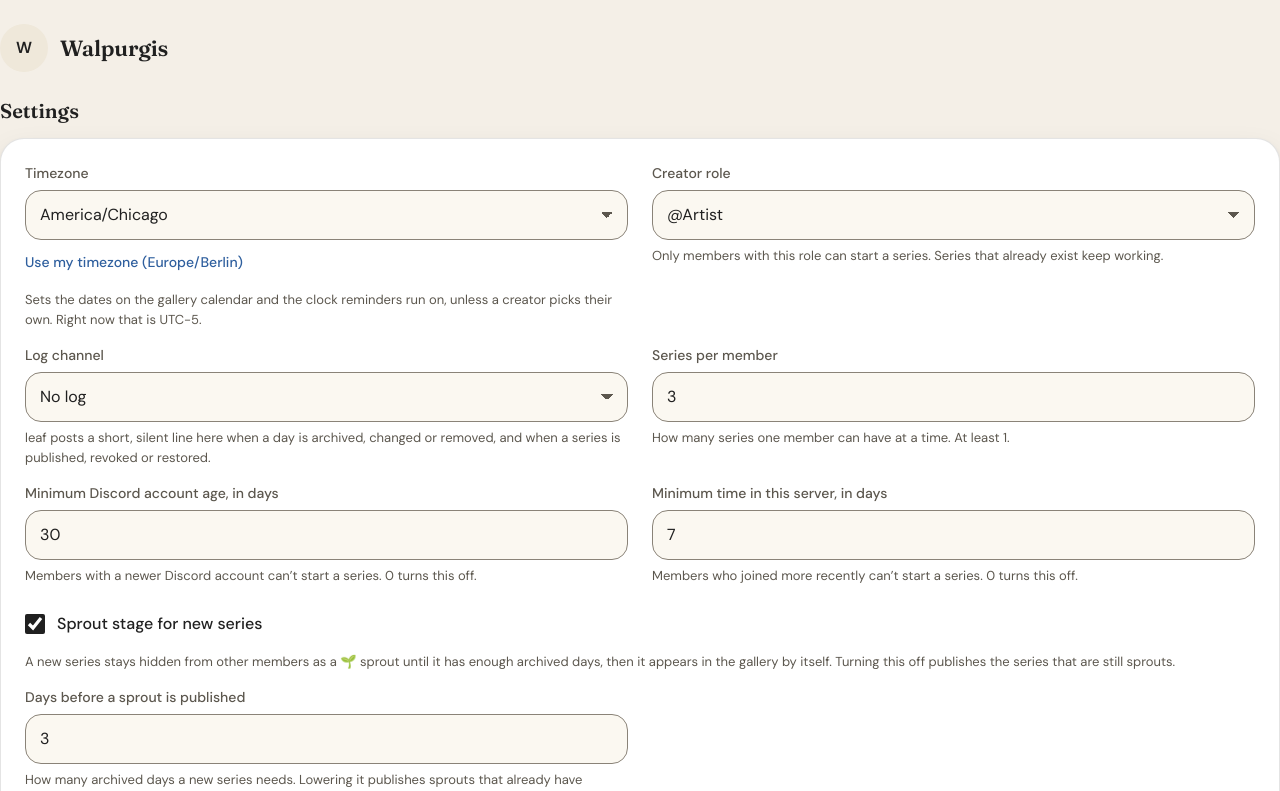
Test case: GuildPanel settings › drops "Saved" as soon as the form is edited again
Expected: the heading "Settings" is shown, x1=0 y1=98 x2=79 y2=123
Replace the text in the field labelled "Series per member" with "5" at (954, 397), box x1=652 y1=372 x2=1255 y2=422
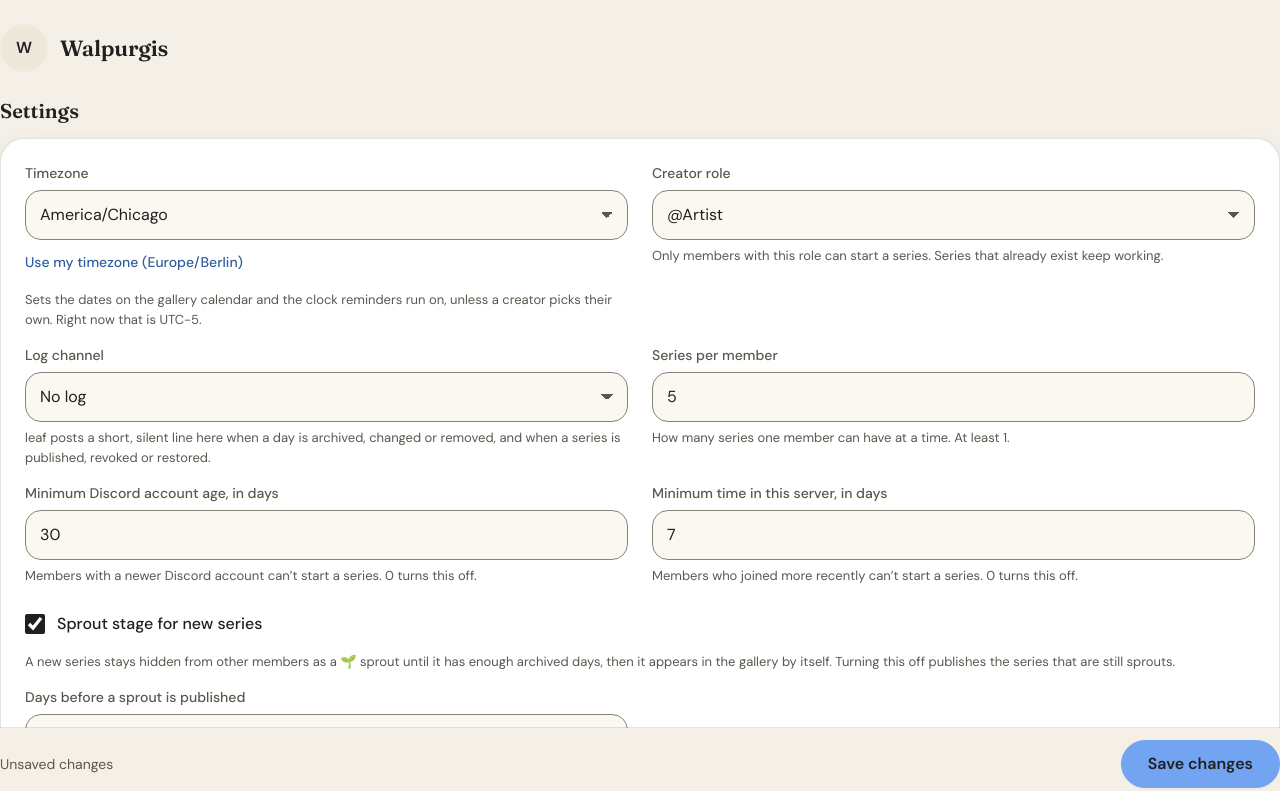
Click the button "Save changes" at (1200, 764), box x1=1121 y1=740 x2=1279 y2=788
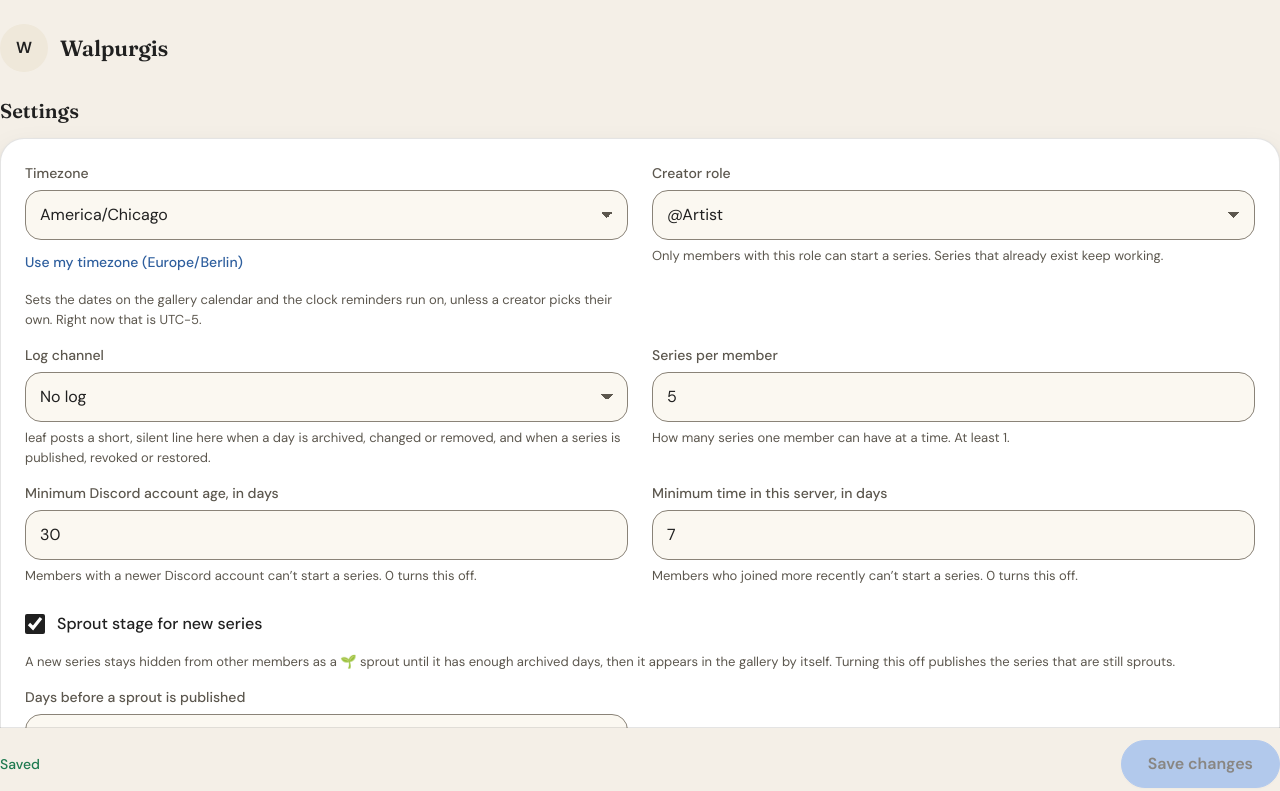
Now the text "Saved" is shown, box x1=0 y1=754 x2=40 y2=774
Replace the text in the field labelled "Series per member" with "6" at (954, 397), box x1=652 y1=372 x2=1255 y2=422
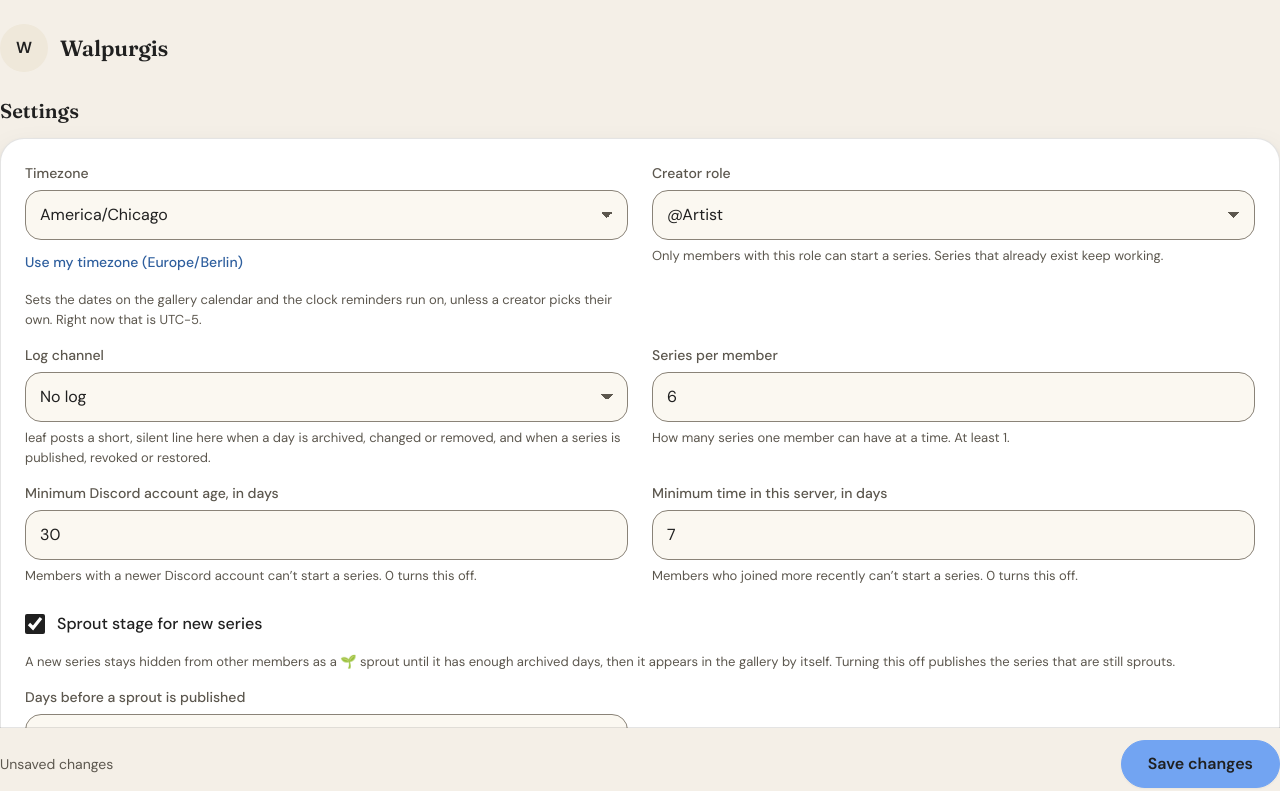
Now the text "Unsaved changes" is shown, box x1=0 y1=754 x2=113 y2=774
Replace the text in the field labelled "Series per member" with "5" at (954, 397), box x1=652 y1=372 x2=1255 y2=422
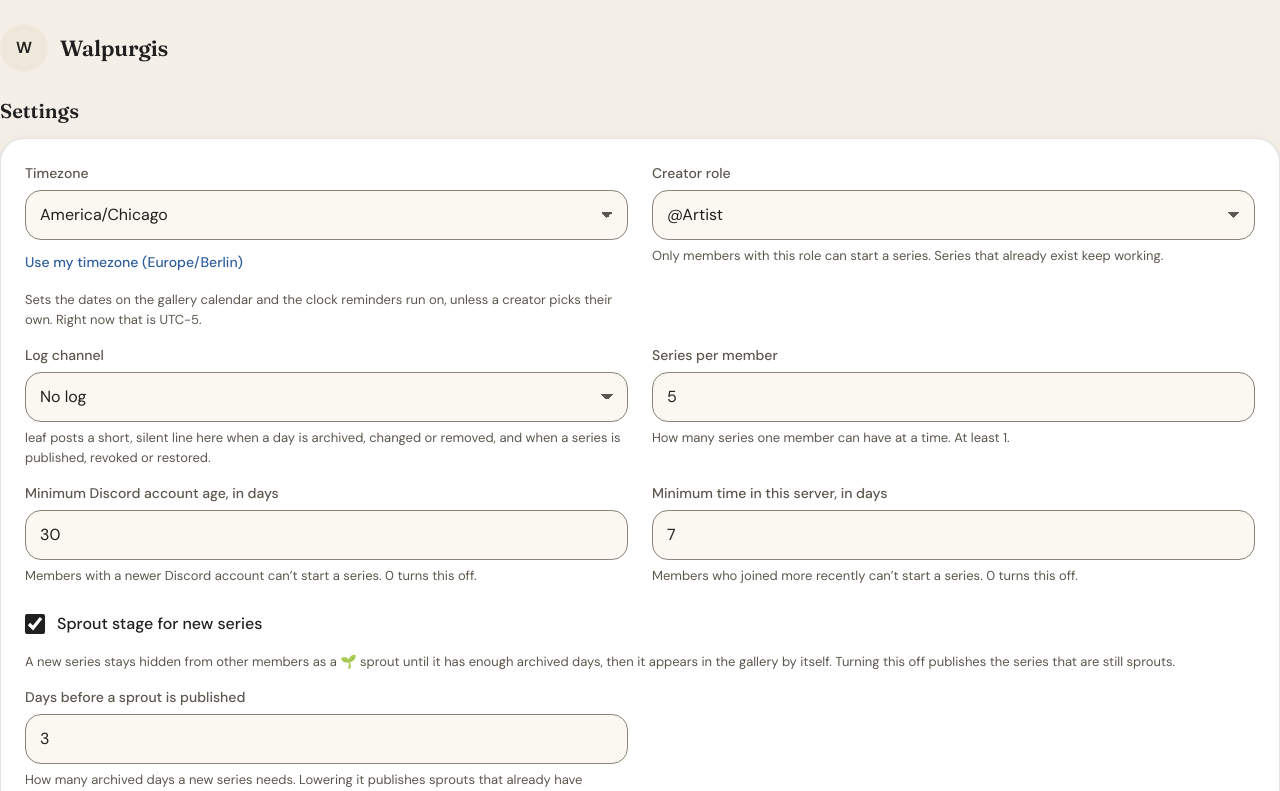
Now the text "saved" is gone
